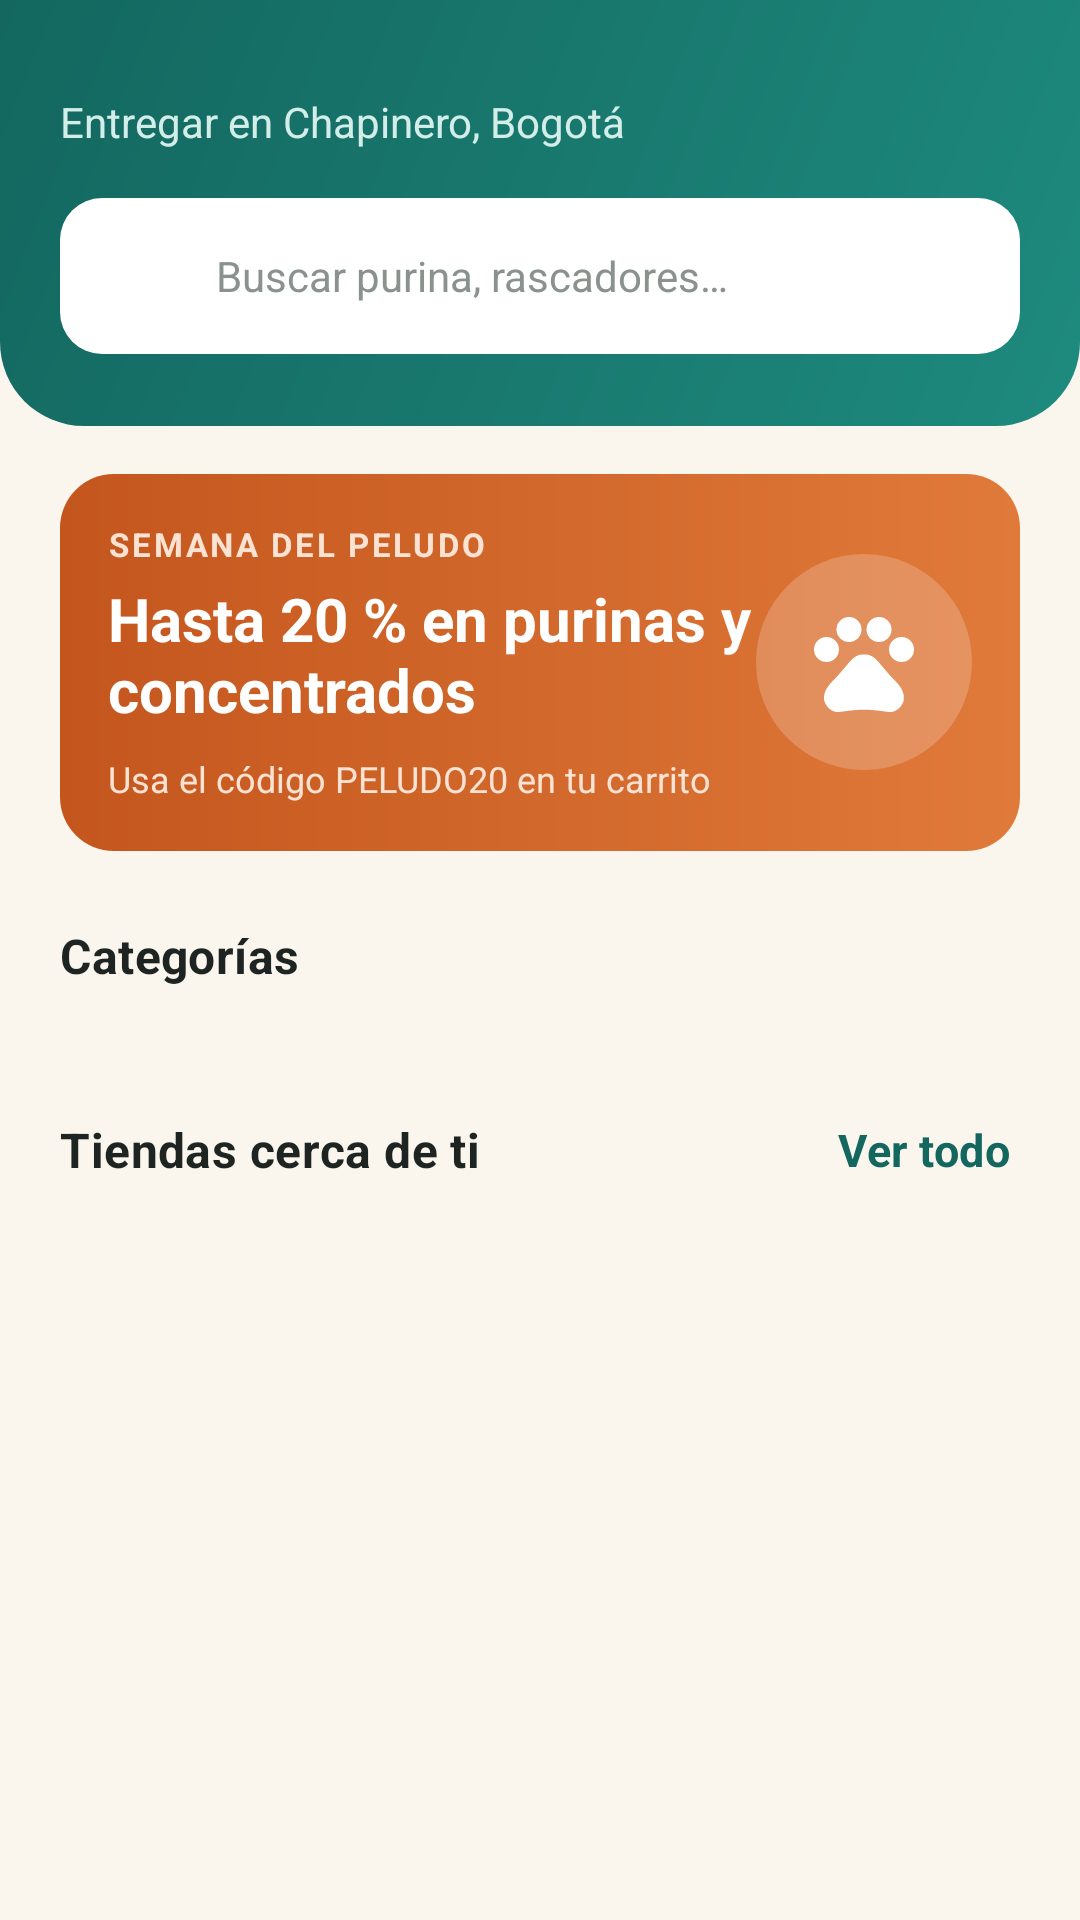

Point at icon controls on the screen. Image size 1080×1920, points as (x,y).
pets: (864,664)
